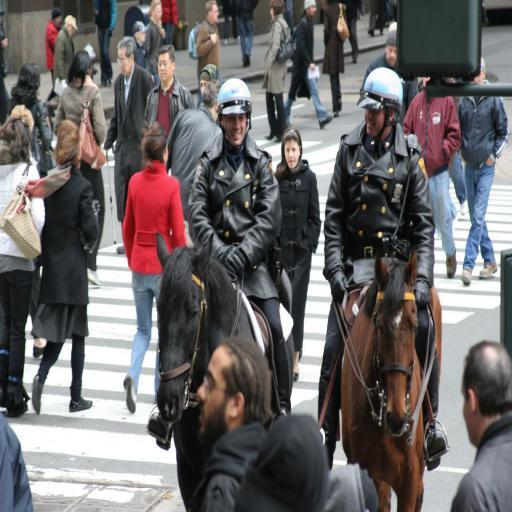horse: (154, 230, 296, 512), (340, 251, 442, 512)
